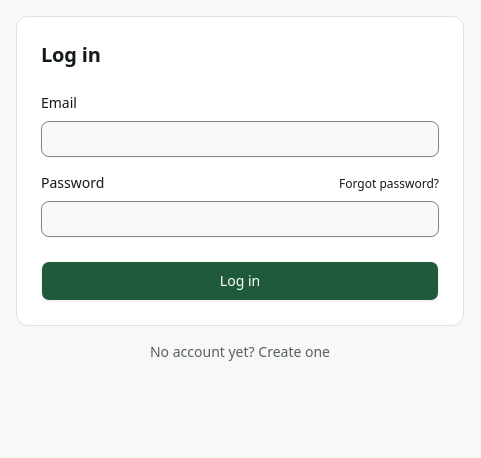
Test: LoginPage › shows a TOTP field after the server asks for a code
Type "grace@example.com" into the field labelled "Email" at (240, 139), box [41,121,439,157]
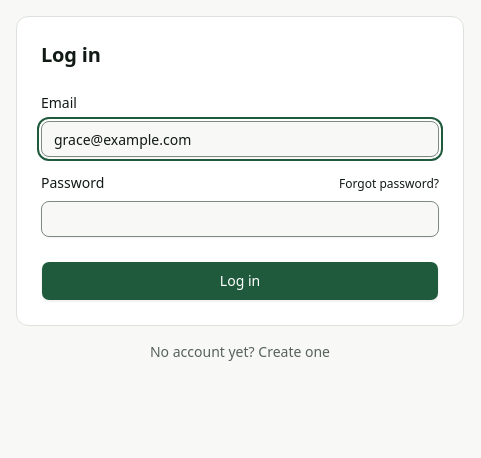
Type "secret" into the password field labelled "Password" at (240, 219), box [41,201,439,237]
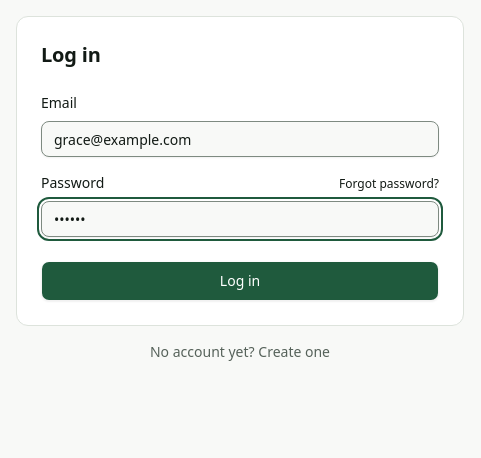
Click the button "Log in" at (240, 281), box [41,261,439,301]
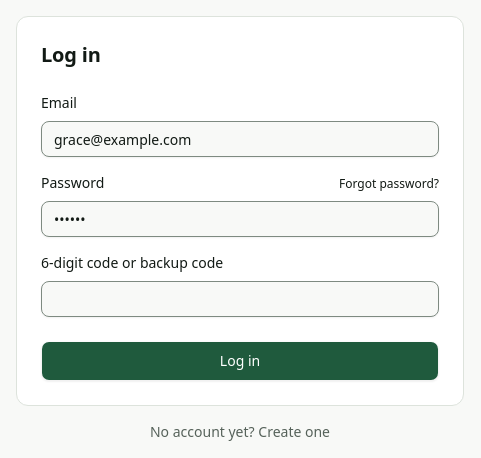
Check: the field labelled "6-digit code or backup code" is shown, box [41,281,439,317]
